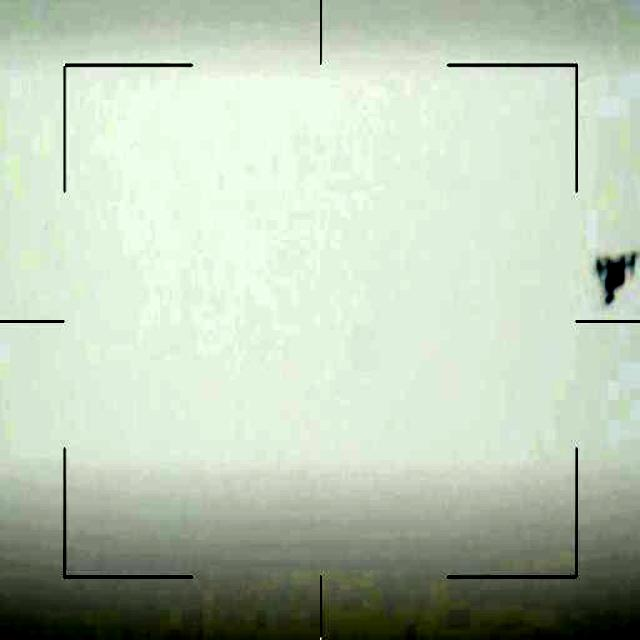bird: (590, 245, 640, 320)
